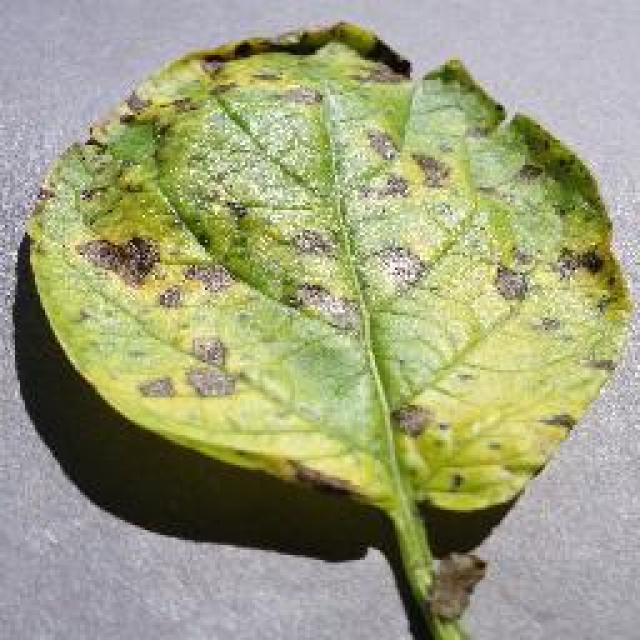Potato: (20, 18, 635, 638)
